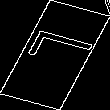L_E: (14, 32, 96, 78)
